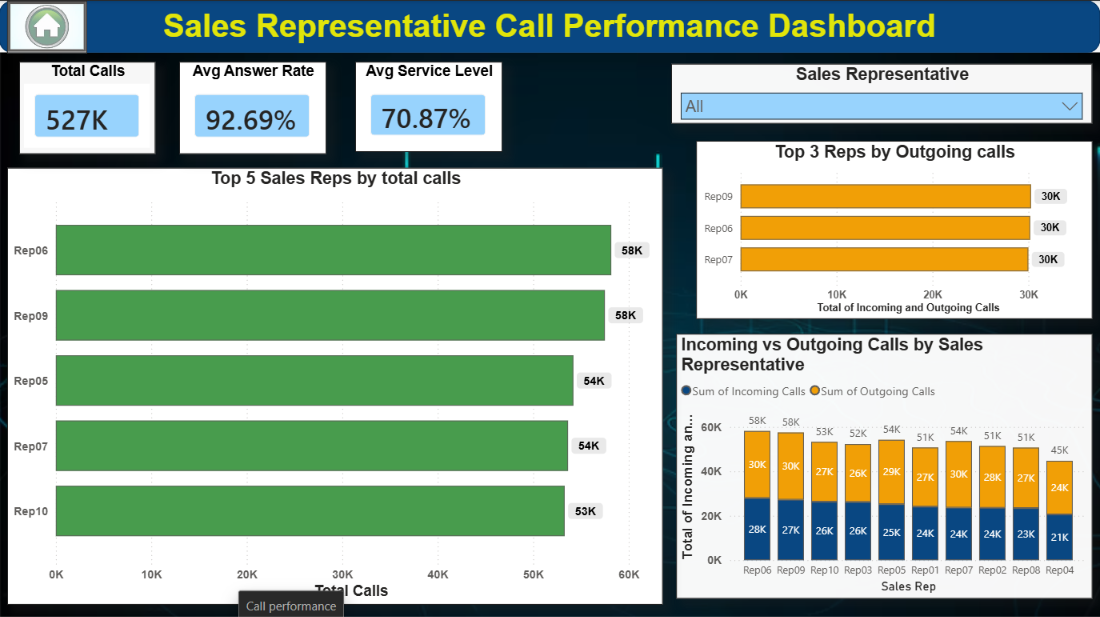

Layout of this report page (visuals, bound fields, positions):
{"tool":"powerbi","page":{"name":"Call performance","canvas":[1280,720],"ordinal":1},"visuals":[{"type":"shape","box":[0,0,1280.3,60.4],"z":0,"group":"g1"},{"type":"columnChart","title":"Incoming vs Outgoing Calls by Sales Representative","fields":{"Category":["Call Center Data.Sales Rep"],"Y":["Sum(Call Center Data.Incoming Calls)","Sum(Call Center Data.Outgoing Calls)"]},"box":[787.2,387.2,483.7,308.1],"z":0},{"type":"textbox","box":[9.6,0,1261.1,60.4],"z":1000,"group":"g1"},{"type":"clusteredBarChart","title":"Top 3 Reps by Outgoing  calls","fields":{"Category":["Call Center Data.Sales Rep"],"Y":["Sum(Call Center Data.Outgoing Calls)"]},"box":[810.5,162.8,460.5,207],"z":1000},{"type":"clusteredBarChart","title":"Top 5 Sales Reps by total  calls","fields":{"Category":["Call Center Data.Sales Rep"],"Y":["Call Center Data.Total Calls"]},"box":[9.3,194.2,762.8,508.1],"z":2000},{"type":"group","id":"g1","title":"Group 1","box":[0,0,1280.3,60.4],"z":3000},{"type":"cardVisual","title":"Total Calls","fields":{"Data":["Call Center Data.Total Calls"]},"box":[23.3,70.9,158.1,107],"z":4000},{"type":"cardVisual","title":"Avg Answer Rate","fields":{"Data":["Call Center Data.Avg Answer Rate"]},"box":[209.3,70.9,170.9,107],"z":5000},{"type":"cardVisual","title":"Avg Service Level","fields":{"Data":["Call Center Data.Avg Service Level"]},"box":[414,70.9,170.9,104.7],"z":6000},{"type":"slicer","title":"Sales Representative","fields":{"Values":["Call Center Data.Sales Rep"]},"box":[781.4,73.3,489.5,69.8],"z":7000},{"type":"actionButton","box":[9.3,0,93,60.5],"z":8000}]}

Visuals, with their boxes on the page's 1280x720 design canvas (x1, y1, x2, y2). These are canvas units, not pixel positions in the 1100x617 screenshot, which may show the page scaled, cropped or inside an application window:
shape: 0,0,1280,60
"Incoming vs Outgoing Calls by Sales Representative" columnChart: 787,387,1271,695
textbox: 10,0,1271,60
"Top 3 Reps by Outgoing  calls" clusteredBarChart: 810,163,1271,370
"Top 5 Sales Reps by total  calls" clusteredBarChart: 9,194,772,702
"Group 1" group: 0,0,1280,60
"Total Calls" cardVisual: 23,71,181,178
"Avg Answer Rate" cardVisual: 209,71,380,178
"Avg Service Level" cardVisual: 414,71,585,176
"Sales Representative" slicer: 781,73,1271,143
actionButton: 9,0,102,60
